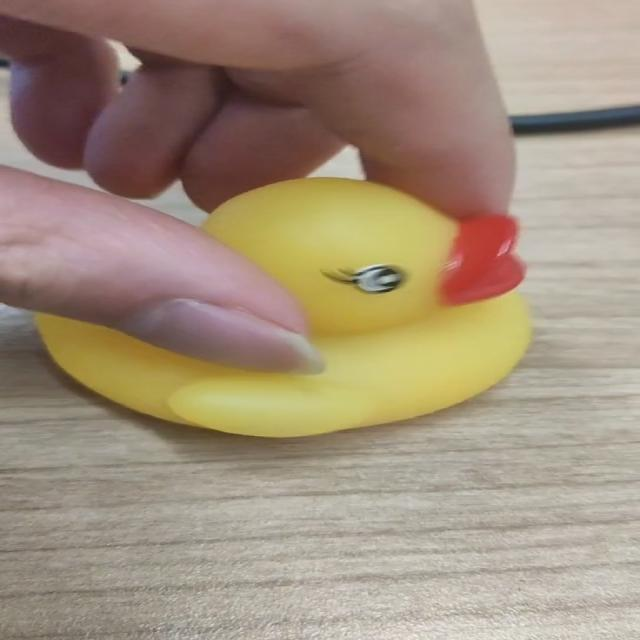rubber-duck: (36, 177, 529, 435)
